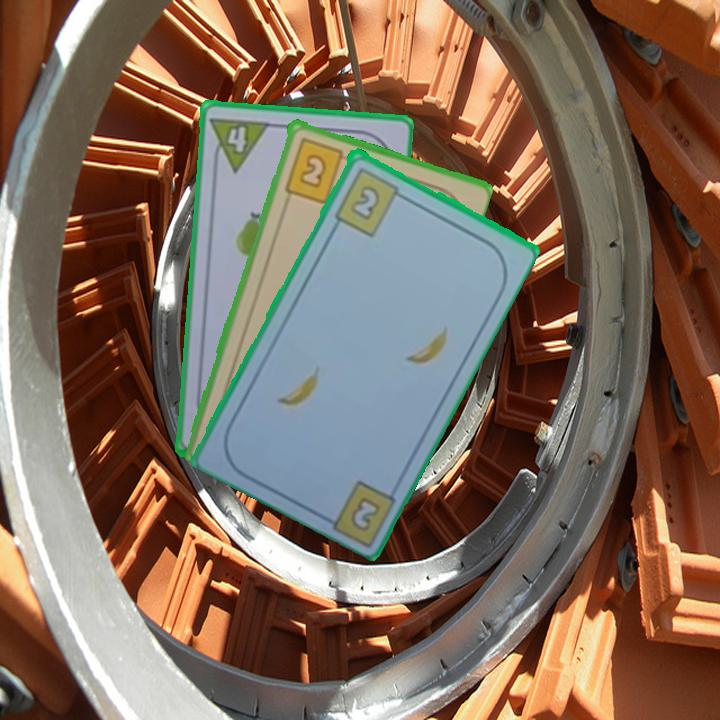2b: (331, 163, 409, 239), (280, 134, 354, 206), (346, 492, 383, 534)
4p: (207, 113, 272, 175)
